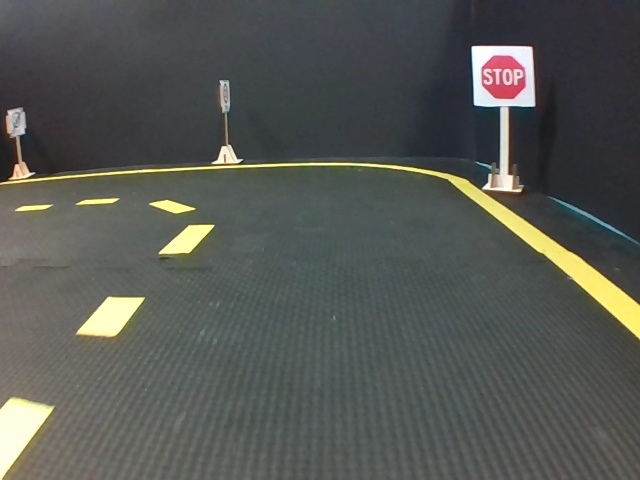30: (219, 78, 232, 112)
no30: (9, 108, 24, 134)
stop: (473, 46, 532, 107)
